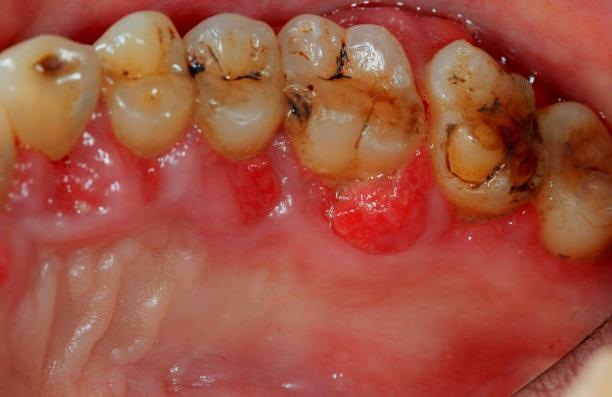Calculus: (420, 49, 542, 194), (512, 92, 612, 246)
Gingivitis: (312, 165, 440, 258), (190, 143, 298, 230), (26, 141, 127, 232)
